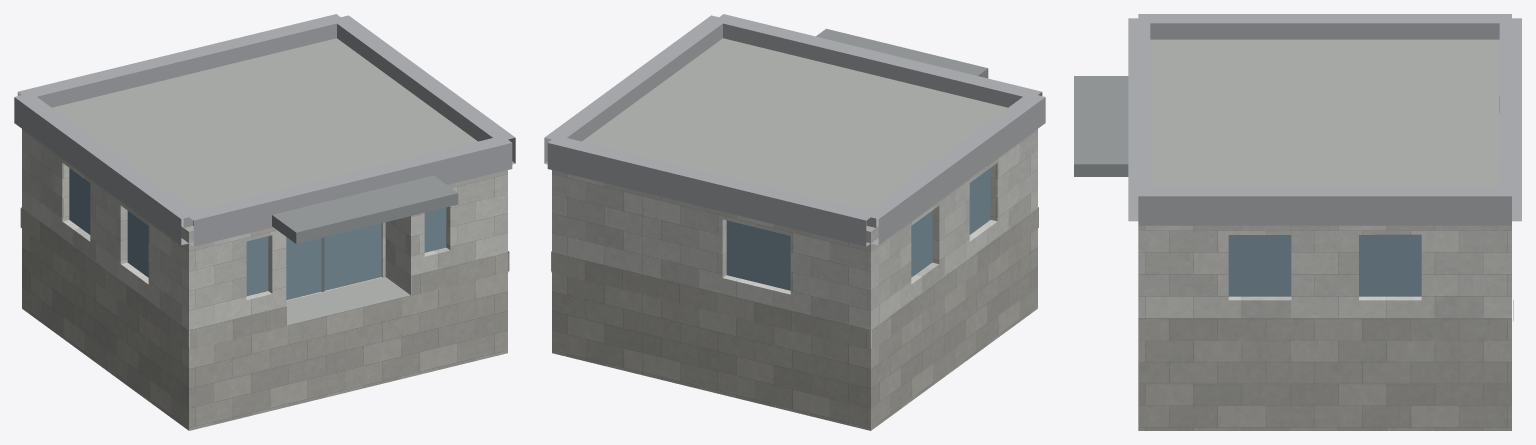
3 renders of one model, left to right at view 1: azimuth 30°, elevation 25°; view 2: azimuth 150°, elevation 25°; view 3: azimuth 270°, elevation 25°, orthographic. The views are drawn at different scales.
Visible parts, largest first — view 1: northGateN23__base, northGateN23__roof, northGateN23__trim, northGateN23__wall, northGateN23__glass, northGateN23__canopy; view 2: northGateN23__base, northGateN23__roof, northGateN23__wall, northGateN23__trim, northGateN23__glass, northGateN23__canopy; view 3: northGateN23__roof, northGateN23__base, northGateN23__trim, northGateN23__wall, northGateN23__glass, northGateN23__canopy.
Boxes of the visible parts, x1,y1,x2,y2 form: northGateN23__base: (20,207,509,430); northGateN23__roof: (52,38,477,325); northGateN23__trim: (14,14,515,246); northGateN23__wall: (22,129,507,349); northGateN23__glass: (69,168,446,299); northGateN23__canopy: (272,175,458,243); northGateN23__base: (551,207,1038,430); northGateN23__roof: (582,38,1007,231); northGateN23__wall: (552,129,1037,349); northGateN23__trim: (544,14,1045,246); northGateN23__glass: (726,168,990,290); northGateN23__canopy: (816,28,988,78); northGateN23__roof: (1150,39,1499,186); northGateN23__base: (1138,300,1513,430); northGateN23__trim: (1128,14,1521,225); northGateN23__wall: (1138,225,1511,318); northGateN23__glass: (1228,234,1421,296); northGateN23__canopy: (1074,76,1128,176).
Bounding box in the file's own units: 10.73 × 6.55 × 11.14.
Materials: 8 (2 with a texture image).
